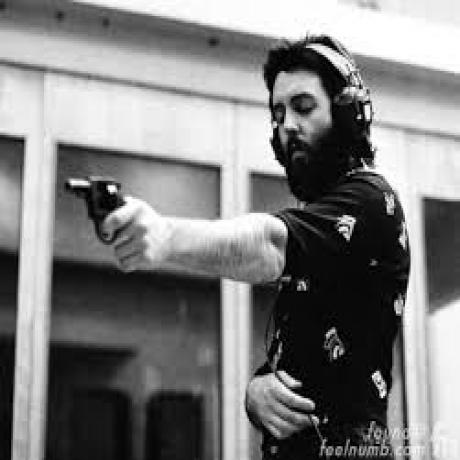Guns: (64, 174, 128, 239)
